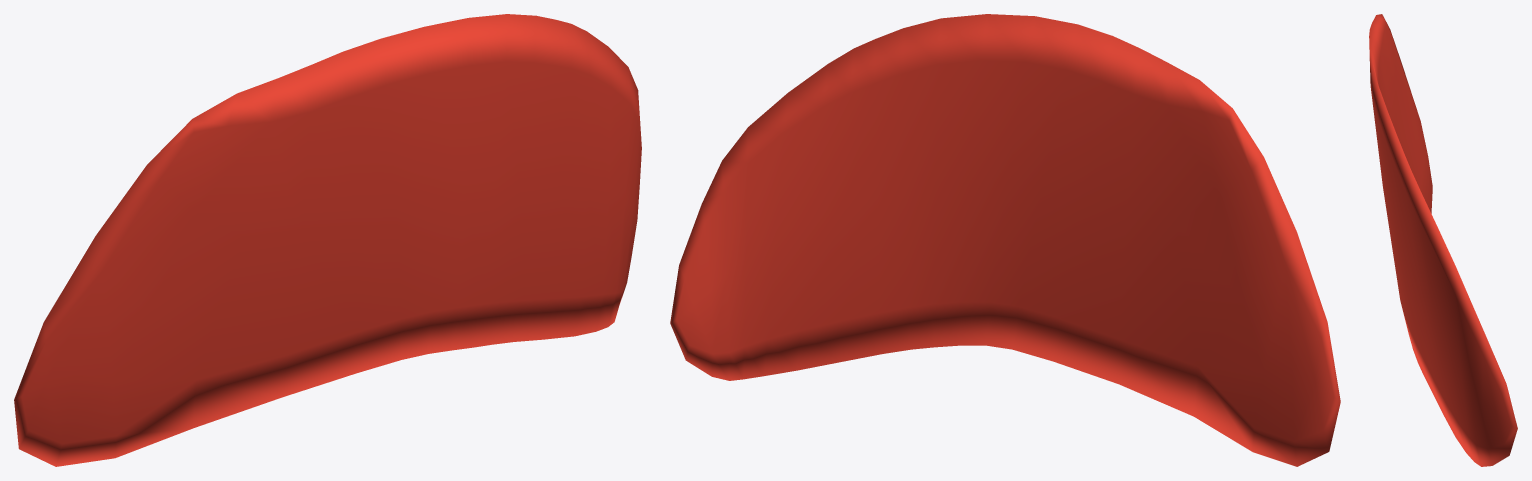
Rendered from Articularis_genus_origin_left.glb.
The picture shows the model from 3 angles, left to right: view 1: azimuth 30°, elevation 25°; view 2: azimuth 150°, elevation 25°; view 3: azimuth 270°, elevation 25°; orthographic projection. The views are drawn at different scales.
Parts seen in each view (by area): view 1: Origin_of_articularis_genus.l_Generated_Mesh_From_X3D.850; view 2: Origin_of_articularis_genus.l_Generated_Mesh_From_X3D.850; view 3: Origin_of_articularis_genus.l_Generated_Mesh_From_X3D.850.
Boxes of the visible parts, box(x1,y1,x2,y2) form: Origin_of_articularis_genus.l_Generated_Mesh_From_X3D.850: box(14, 14, 641, 466); Origin_of_articularis_genus.l_Generated_Mesh_From_X3D.850: box(670, 14, 1340, 466); Origin_of_articularis_genus.l_Generated_Mesh_From_X3D.850: box(1369, 14, 1517, 466).
Size of the model in its own units: 0.0233 by 0.0136 by 0.00595.
